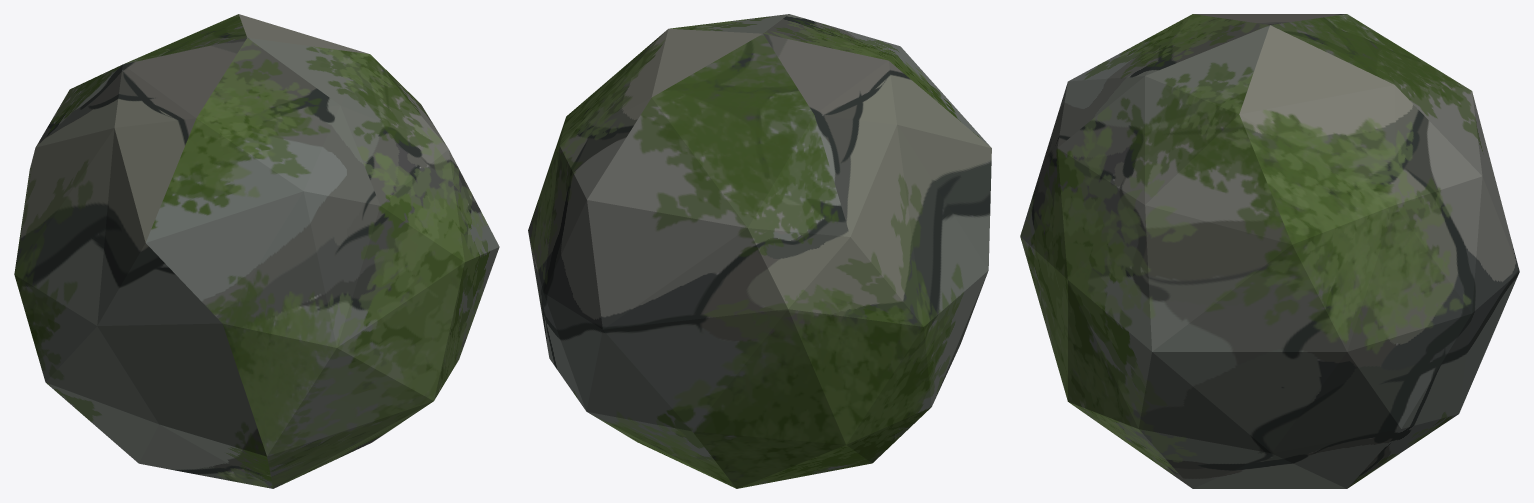
The model's file is pierrequiroule.fbx.
3 views of the same model, side by side, from view 1: azimuth 30°, elevation 25°; view 2: azimuth 150°, elevation 25°; view 3: azimuth 270°, elevation 25° (orthographic). The views are drawn at different scales.
Visible parts, largest first — view 1: Icosphere; view 2: Icosphere; view 3: Icosphere.
Boxes of the visible parts, x1,y1,x2,y2 form: Icosphere: (14,14,499,488); Icosphere: (528,14,991,488); Icosphere: (1020,14,1519,488).
Bounding box in the file's own units: 1.9 × 2 × 2.
